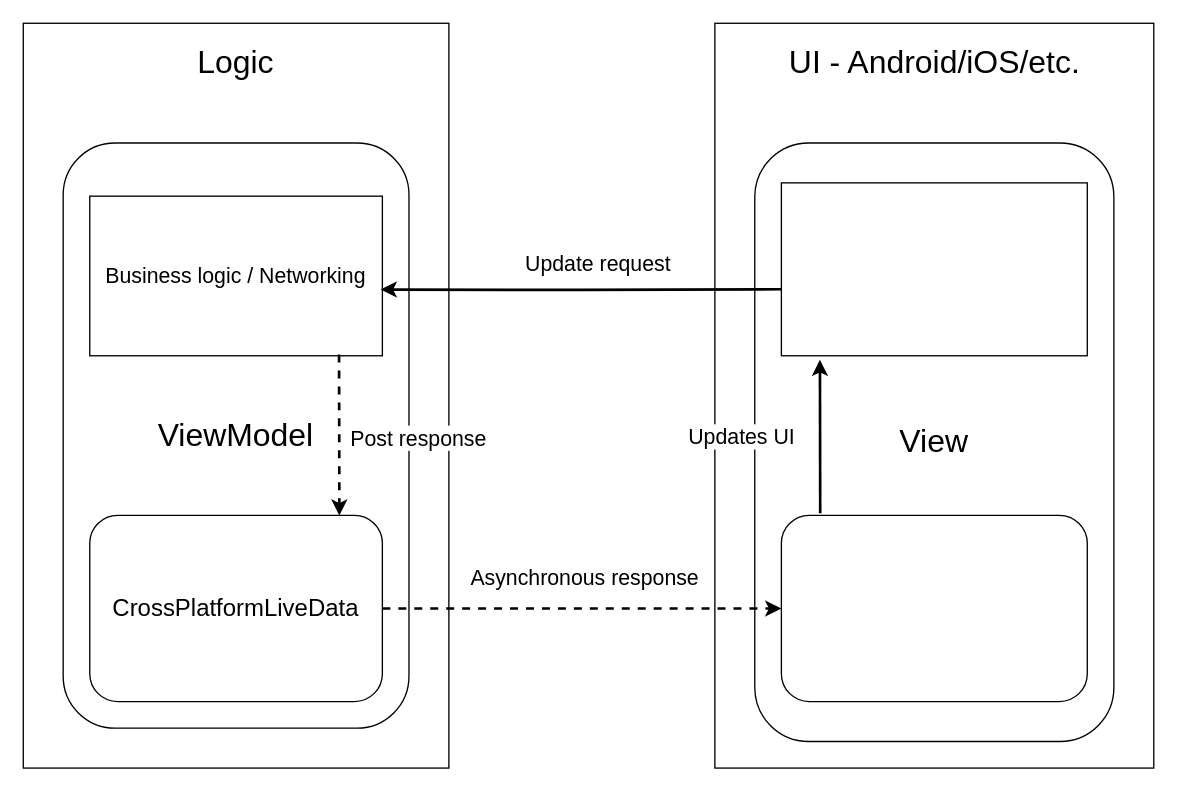
Some shapes in this 1177 by 791 pixel diagram are drawn without their labels. The shapes that lost their labels are listed below. From the top down, each one's centre as x and y in pixels, then its label:
At [933,269]: "UI".
At [933,608]: "LifecycleManager".
